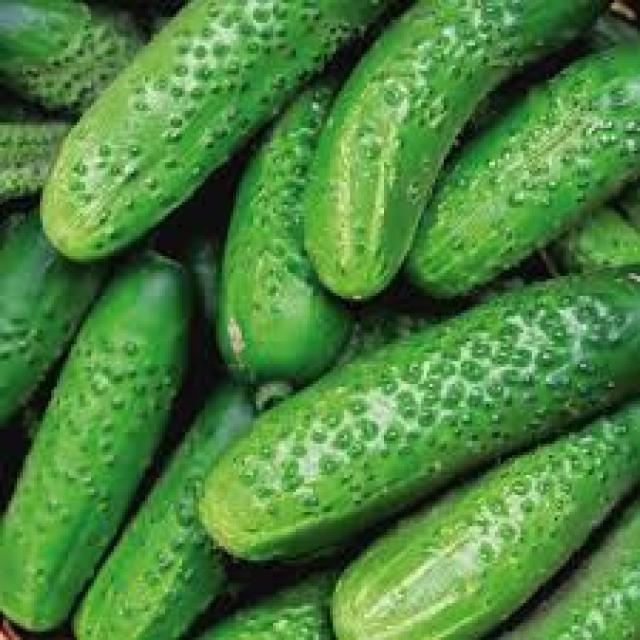Pickle: (200, 275, 640, 559), (44, 1, 386, 261), (335, 400, 639, 640), (0, 252, 188, 631), (408, 45, 639, 296), (74, 384, 252, 640), (218, 82, 351, 382)
